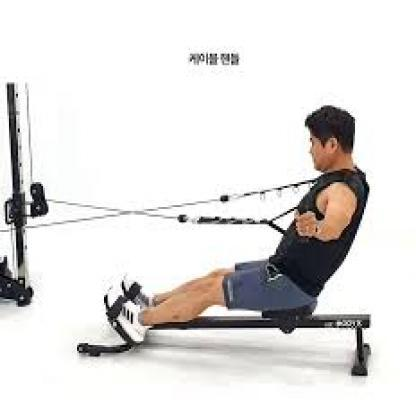Seated Cable Rows: (0, 69, 378, 393)
